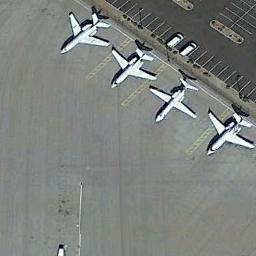Airplane: (146, 72, 204, 126), (207, 104, 256, 158), (58, 8, 112, 54), (107, 48, 164, 88)
